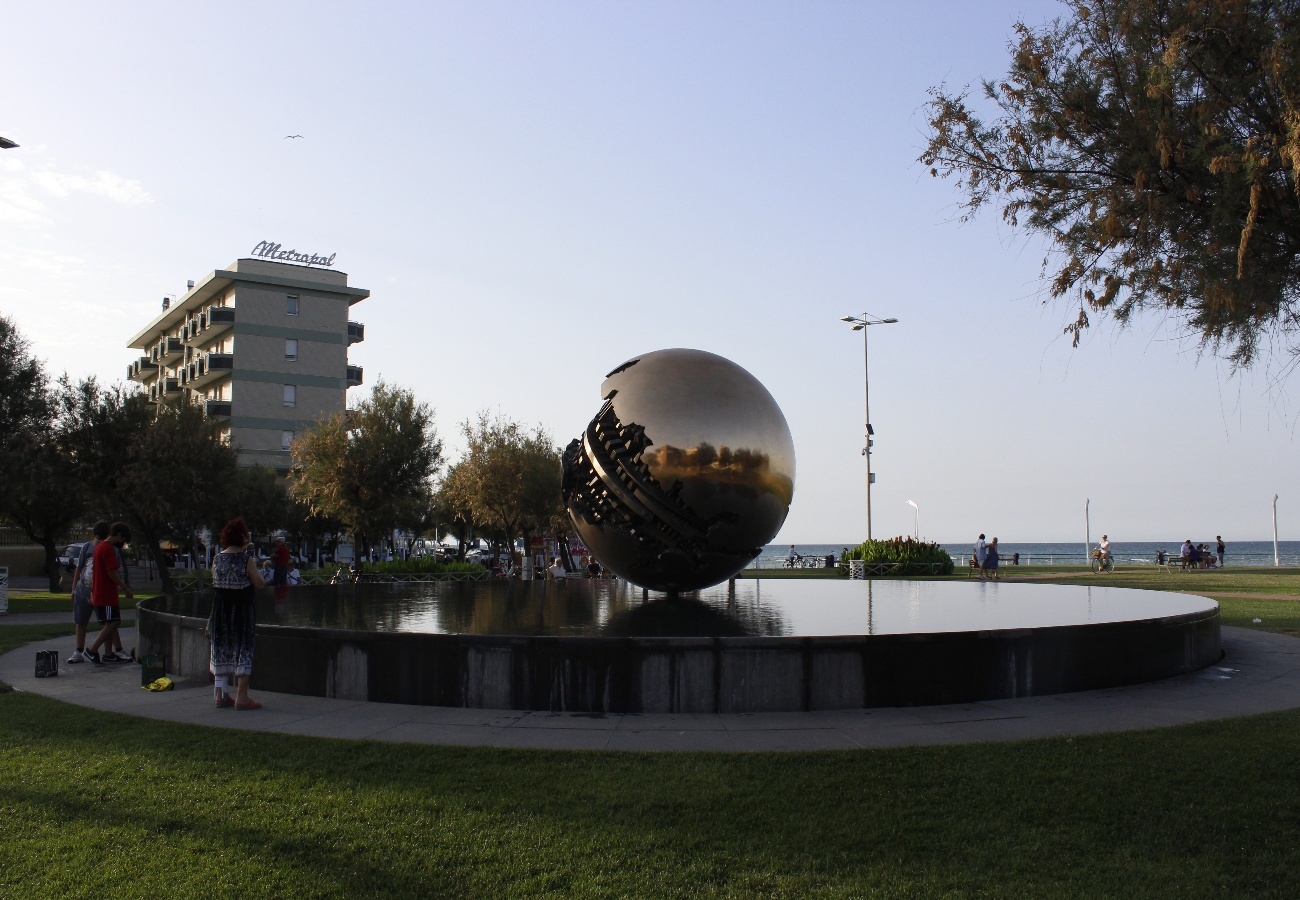Palla di Pomodoro: (560, 350, 798, 594)
